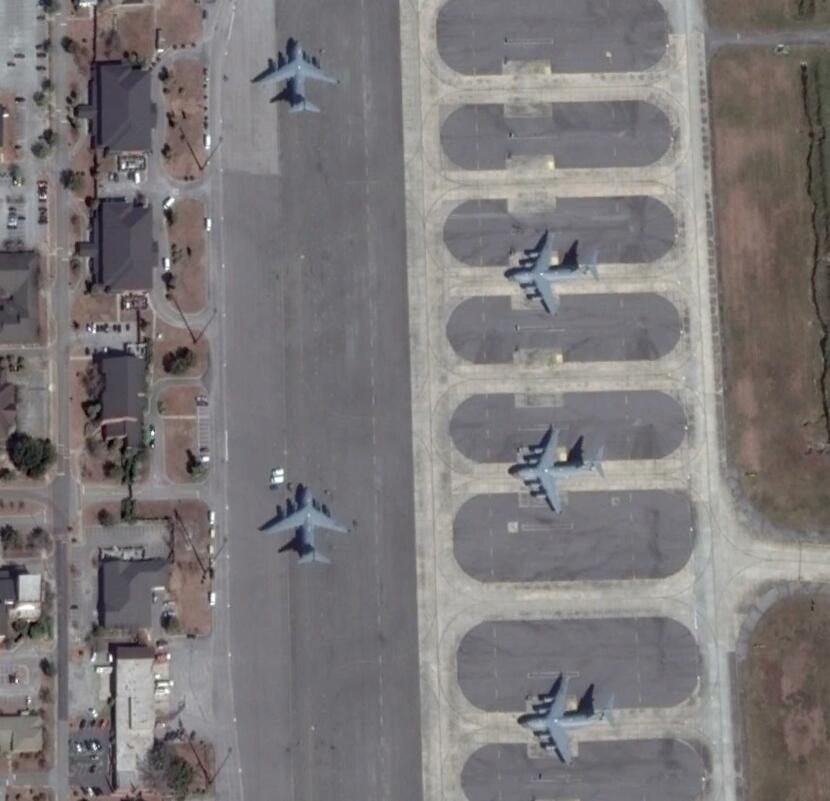A3: (514, 672, 617, 766), (510, 426, 604, 515), (506, 230, 598, 316), (260, 486, 352, 566), (252, 37, 340, 113)
